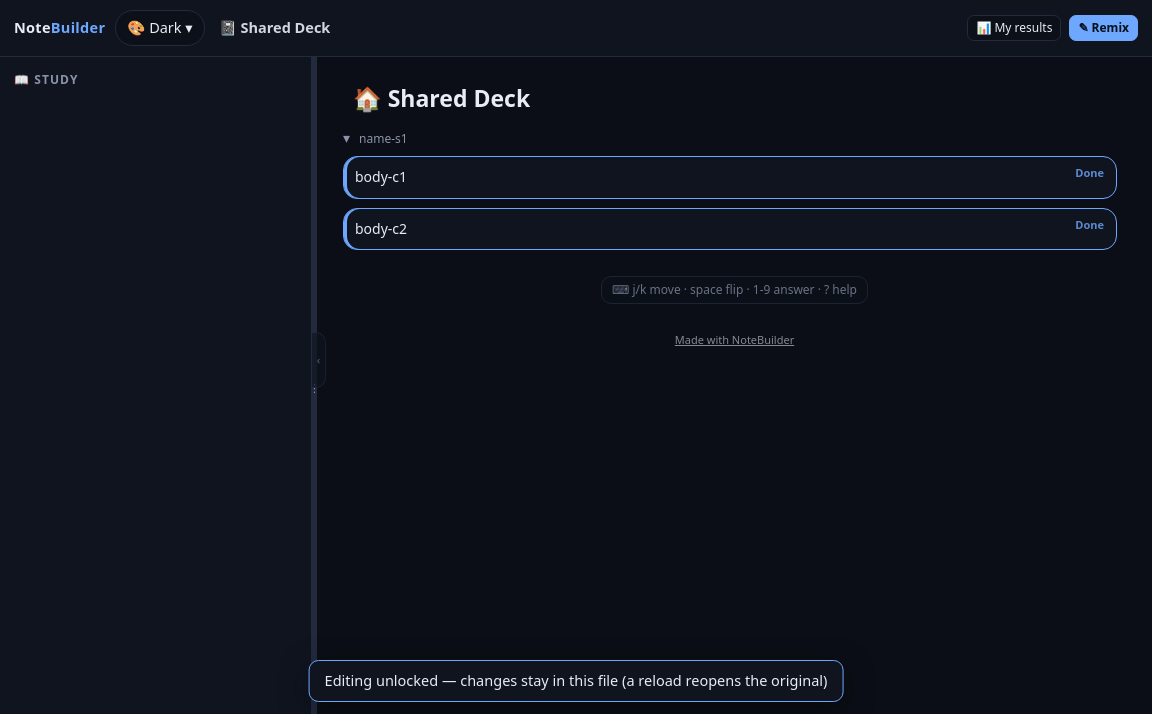
Test case: Reader authoring — section services › a chip attaches a service to the selected section and detaches it again
This screenshot has width=1152, height=714.
Click the button "✎ Remix". click: click(1104, 28)
box: [1069,15,1138,41]
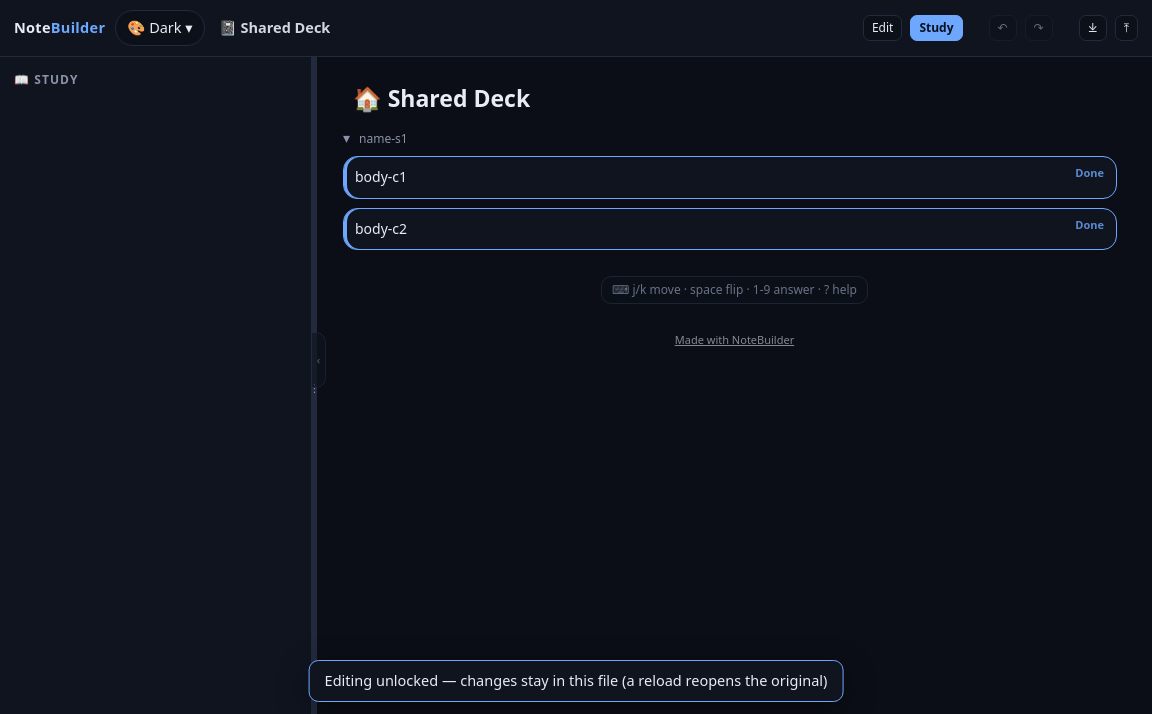
Click the button "Edit". click: click(883, 28)
box: [863,15,902,41]
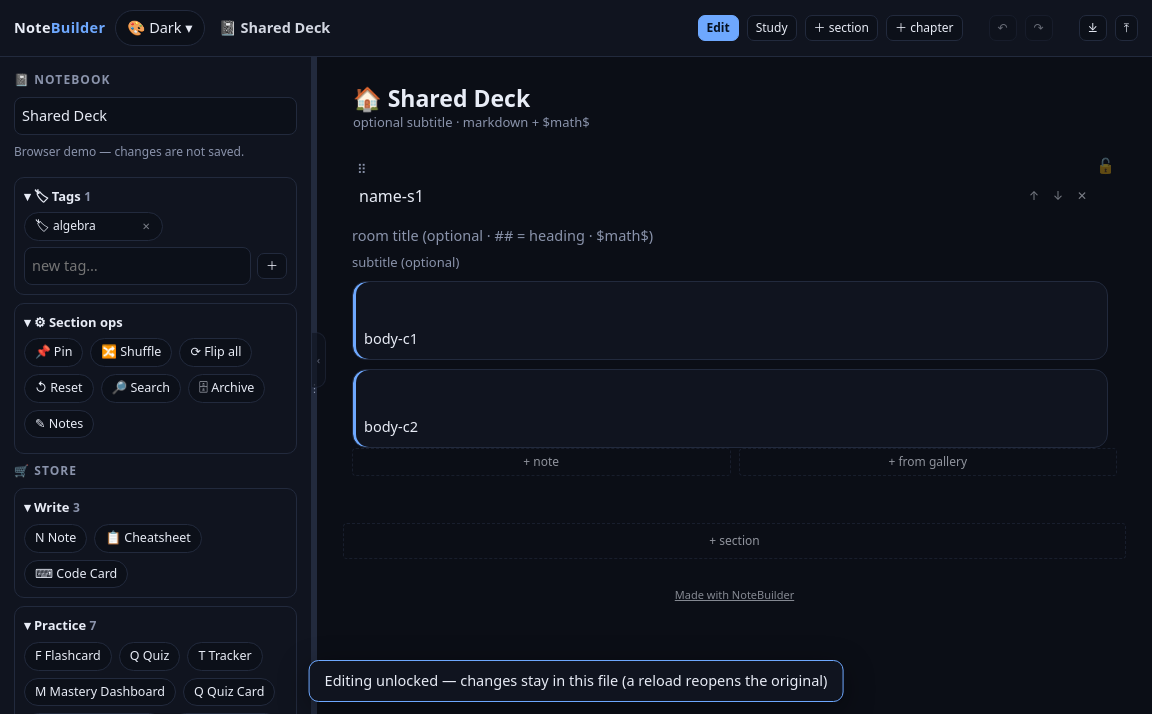
Click the element with class "room". click: click(734, 476)
box: [343,149,1126,497]
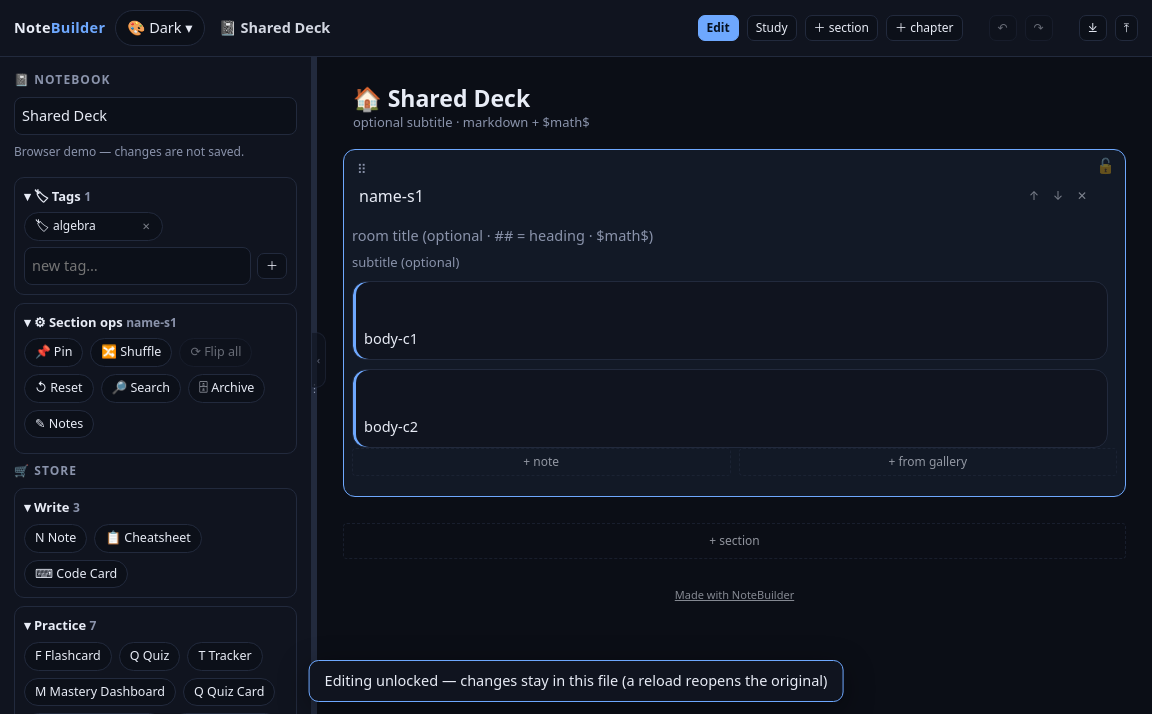
Click the button "🔎 Search". click: click(141, 388)
box: [101,374,181,403]
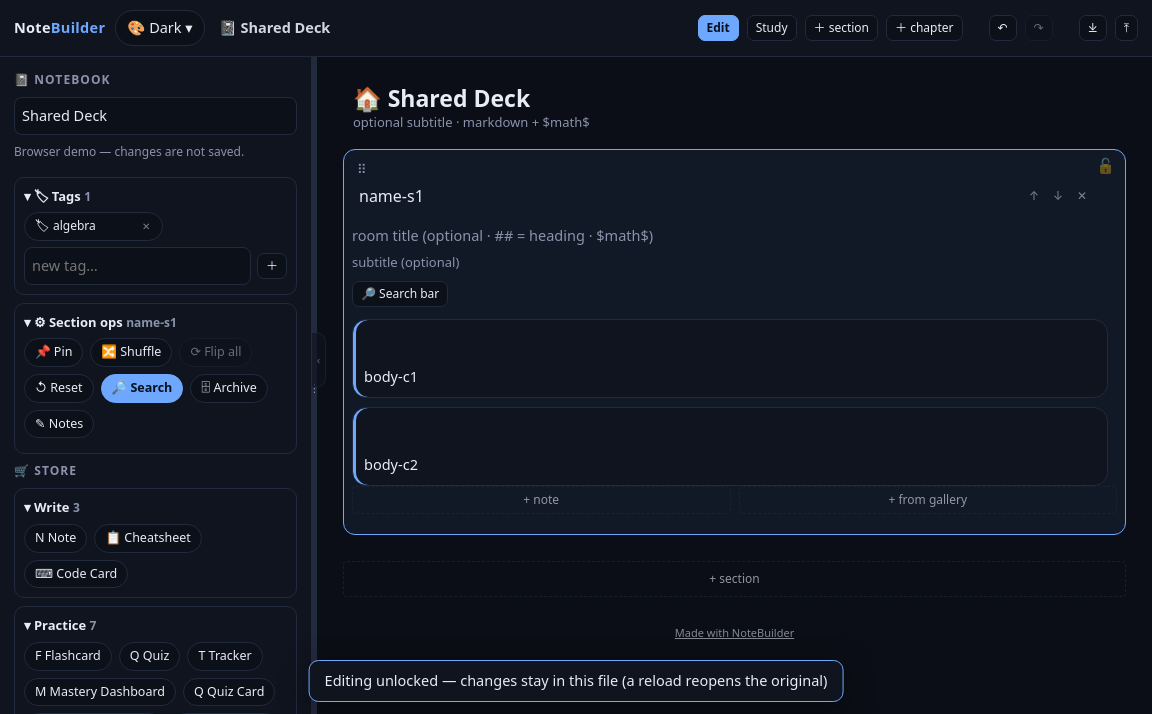
Now the button "🔎 Search bar" is shown, box [352,281,448,307]
Click the button "🔎 Search". click: click(142, 388)
box: [101,374,183,403]
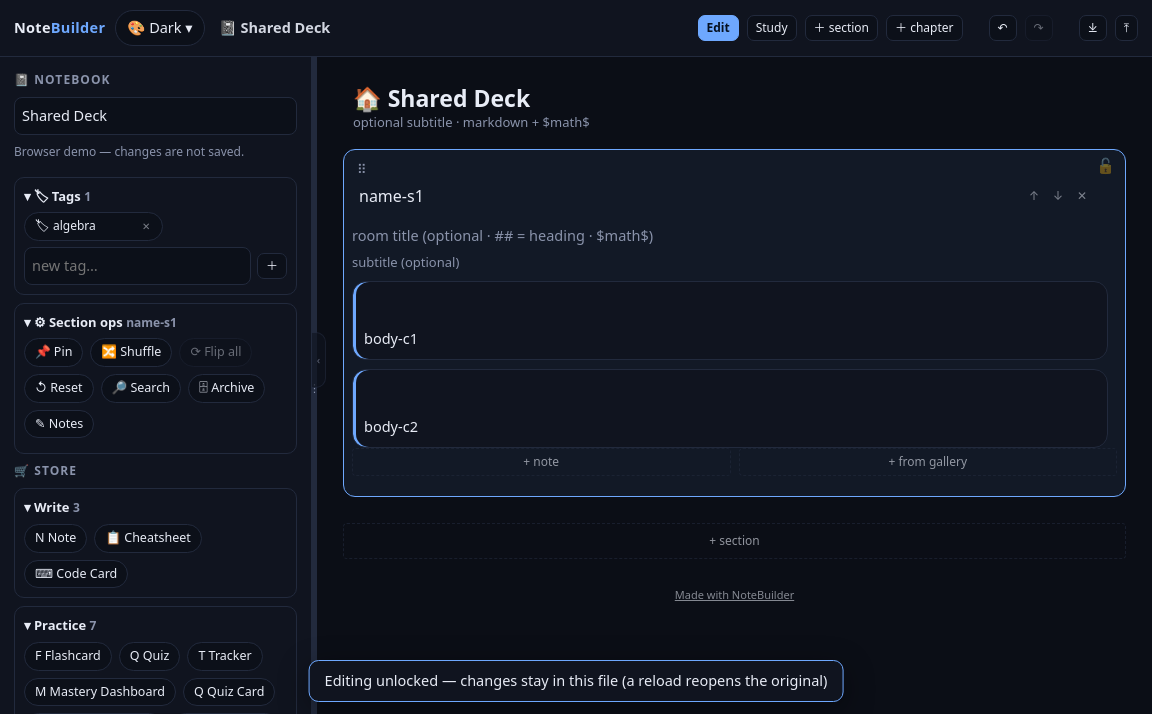
Click the button "↶". click: click(1003, 28)
box: [988,15,1017,41]
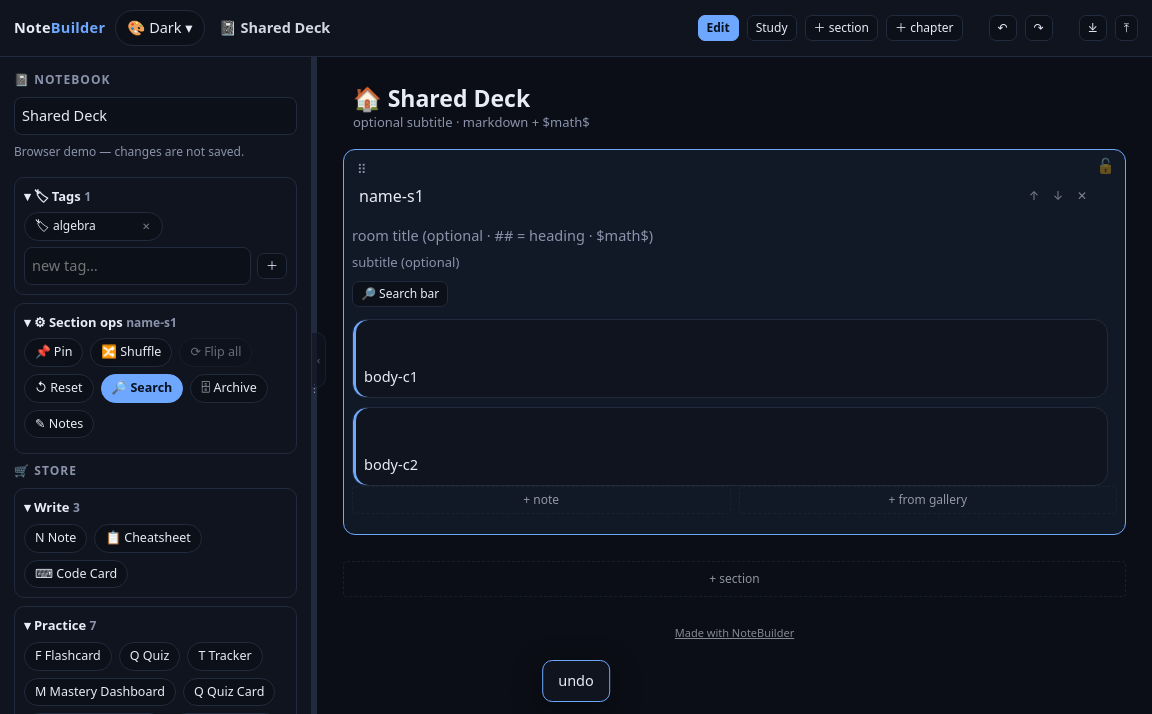
Now the button "🔎 Search bar" is shown, box [352,281,448,307]
